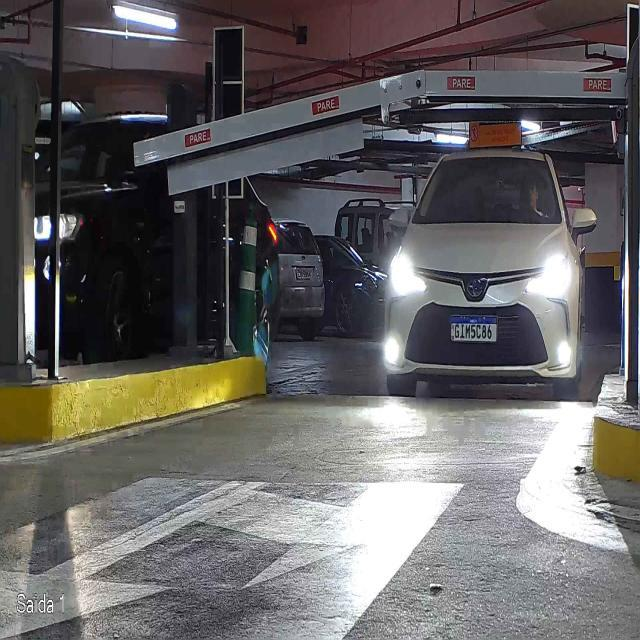mercosul_plate: (446, 314, 498, 345)
